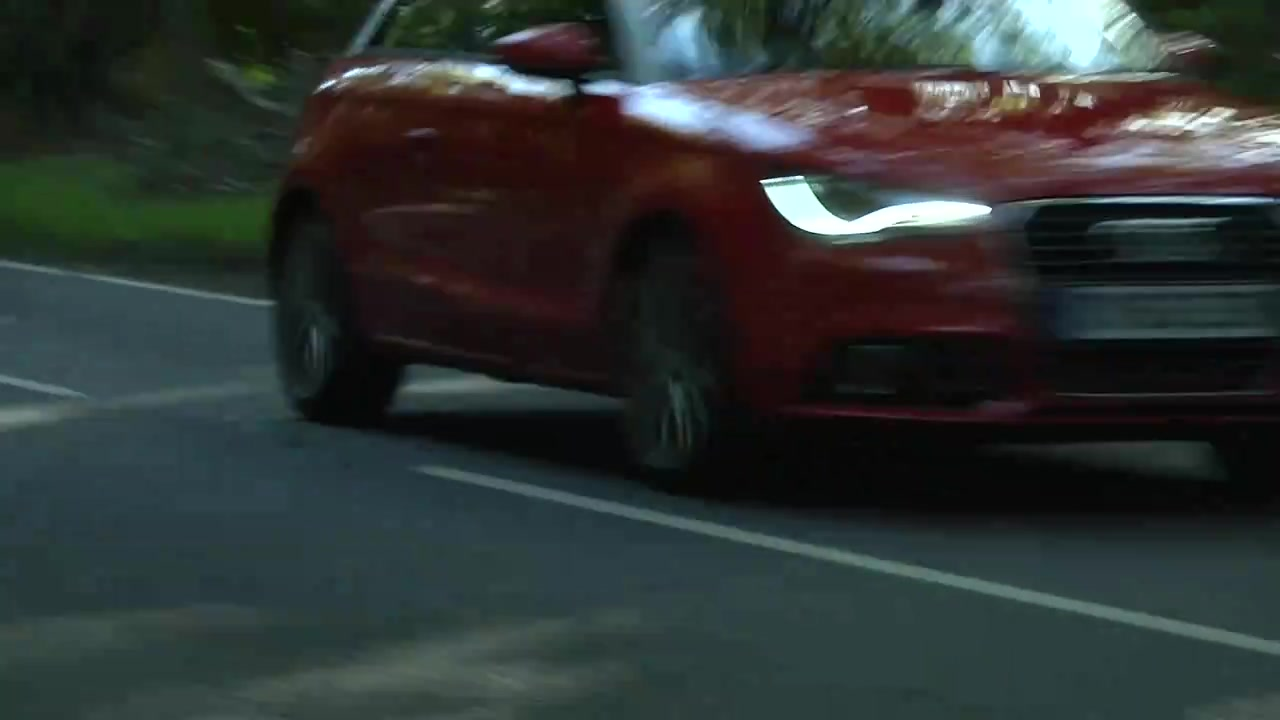car: (258, 1, 1277, 493)
